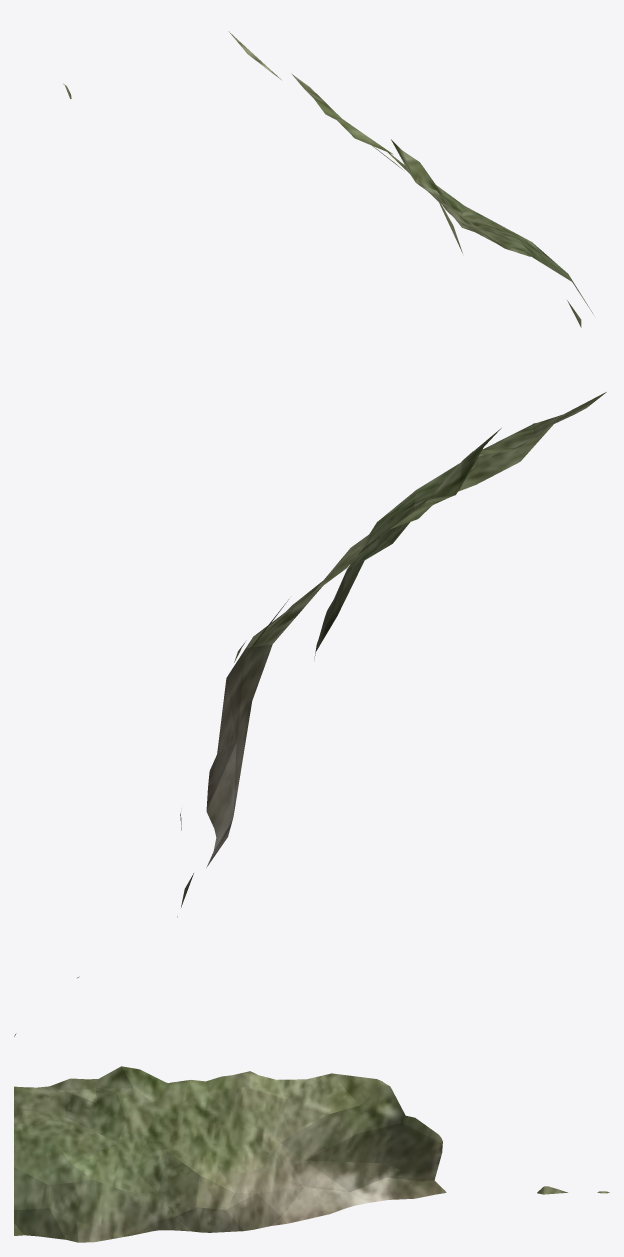
3 views of the same model, one above another, from view 1: azimuth 30°, elevation 25°; view 2: azimuth 150°, elevation 25°; view 3: azimuth 270°, elevation 25° (orthographic). The views are drawn at different scales.
Bounding box in the file's own units: 0.5153 × 0.6092 × 2.6.
1 material, 1 textured.
